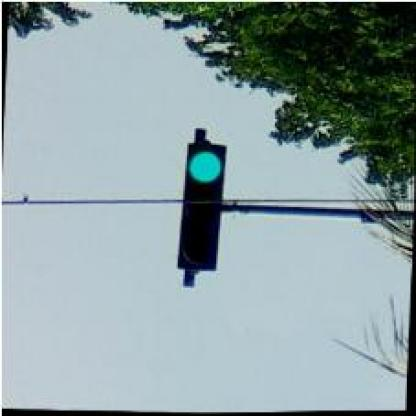green: (178, 142, 225, 269)
